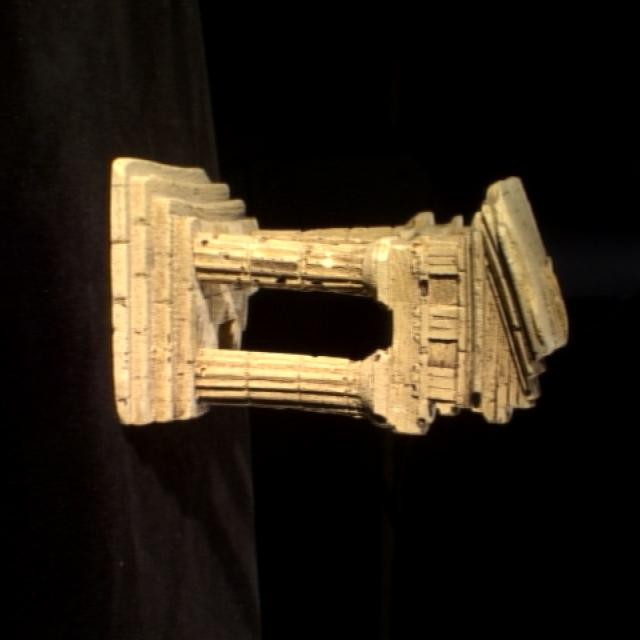Instance-Segmentation: (112, 157, 567, 433)
